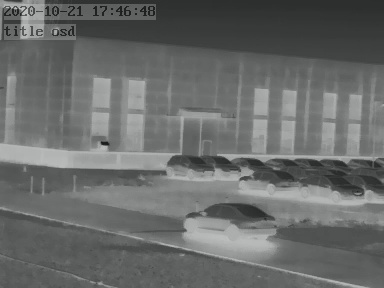vehicle: (184, 202, 278, 239), (237, 170, 301, 193), (303, 175, 361, 199), (165, 152, 213, 179), (206, 153, 243, 177), (357, 175, 384, 202), (233, 154, 271, 171), (261, 155, 296, 170), (347, 155, 381, 170), (317, 156, 347, 170), (296, 156, 325, 169)
